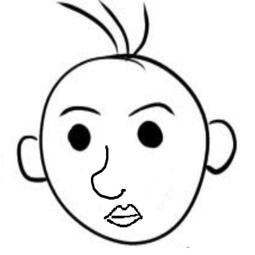cupid_mouth: (101, 203, 153, 232)
ear: (198, 111, 245, 179), (12, 130, 52, 192)
eye: (133, 119, 169, 154), (66, 121, 93, 151)
eyebrow: (123, 101, 182, 120), (56, 102, 112, 122)
nose: (88, 144, 130, 201)
